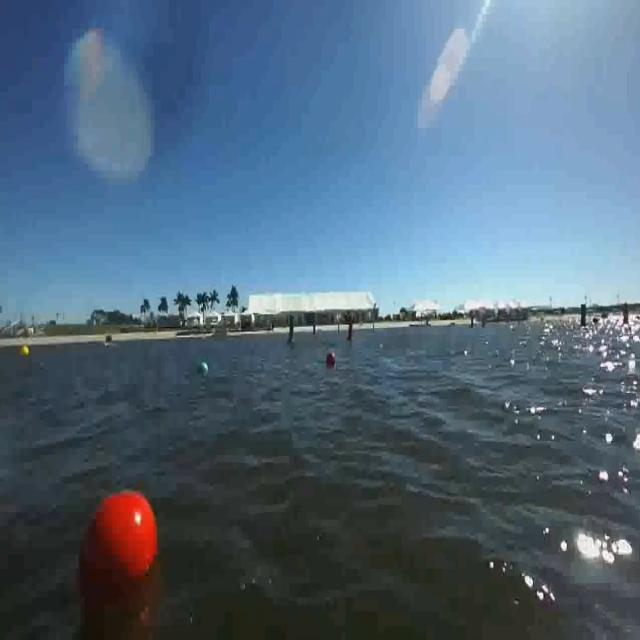green-buoy: (197, 362, 211, 378)
green-column-buoy: (286, 314, 297, 346)
red-buoy: (77, 487, 163, 600), (326, 351, 336, 368)
yellow-buoy: (22, 343, 32, 359)
